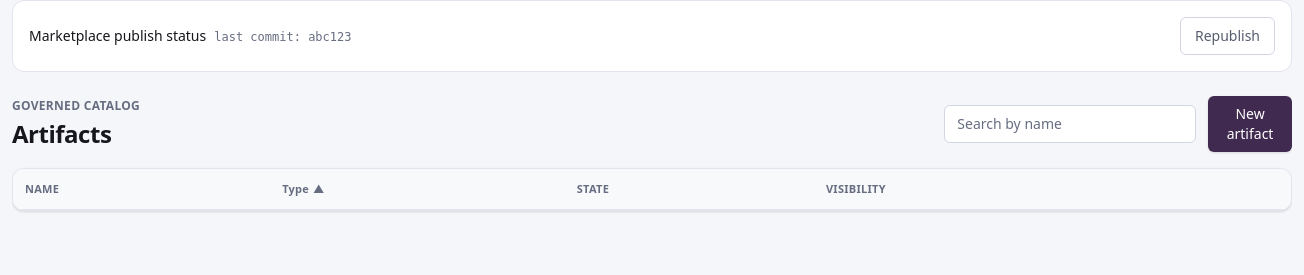
ArtifactsPage: searching issues ?q= against name with no cursor
The width and height of the screenshot is (1304, 275).
Expected: the button "New artifact" is shown, [1208, 96, 1292, 152]
Type "fmt" into the search field named "Search artifacts" at (1070, 124), box [944, 105, 1196, 143]
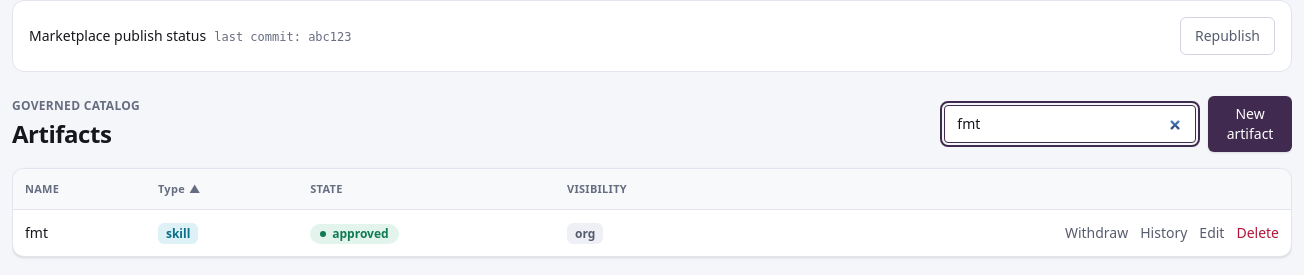
Now the text "fmt" is shown, box [13, 209, 146, 256]
